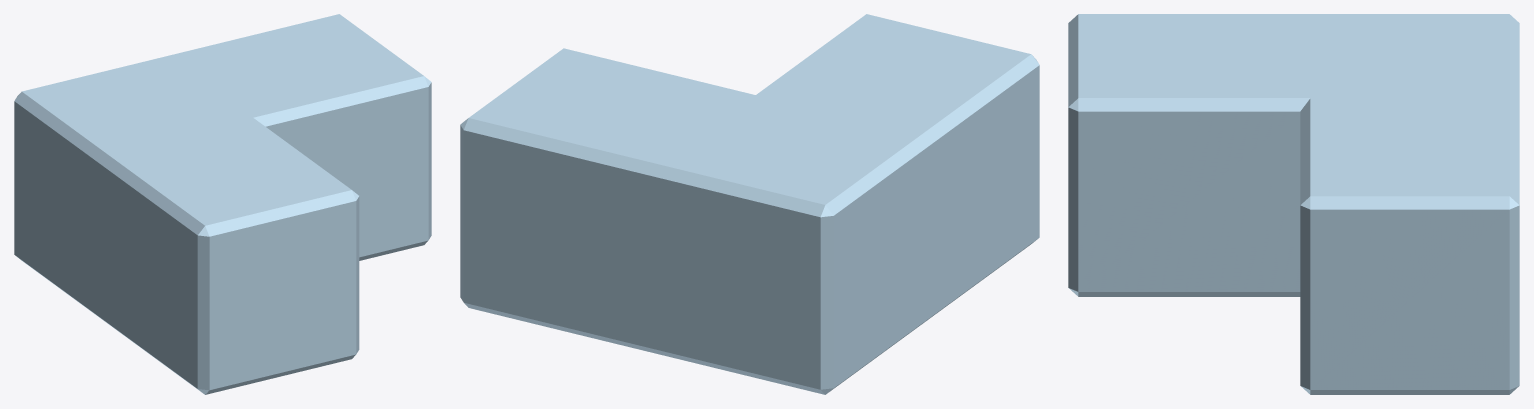
Rendered from R4B_CornerL3_LOD1.fbx.
The picture shows the model from 3 angles, left to right: view 1: azimuth 30°, elevation 25°; view 2: azimuth 150°, elevation 25°; view 3: azimuth 270°, elevation 25°; orthographic projection. The views are drawn at different scales.
Visible parts, largest first — view 1: R4B_CornerL3_LOD1; view 2: R4B_CornerL3_LOD1; view 3: R4B_CornerL3_LOD1.
Boxes of the visible parts, left/top/right/bottom form: R4B_CornerL3_LOD1: left=14, top=14, right=431, bottom=394; R4B_CornerL3_LOD1: left=460, top=14, right=1039, bottom=394; R4B_CornerL3_LOD1: left=1068, top=14, right=1519, bottom=394.
Bounding box in the file's own units: 1.07 × 0.52 × 1.07.
